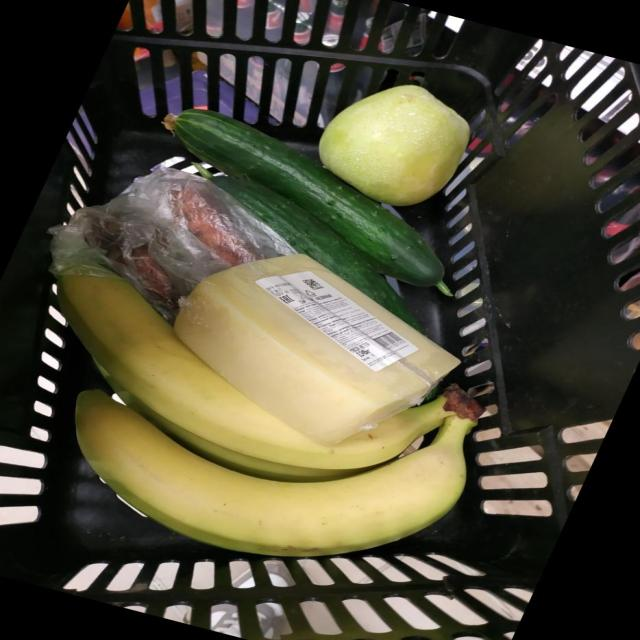Apple: (318, 84, 470, 205)
Banana: (57, 274, 455, 469), (75, 390, 474, 556), (99, 366, 374, 482)
Carrot: (171, 187, 259, 265)
Cheese: (173, 253, 459, 444)
Cucumber: (165, 109, 444, 286), (211, 175, 420, 329)
